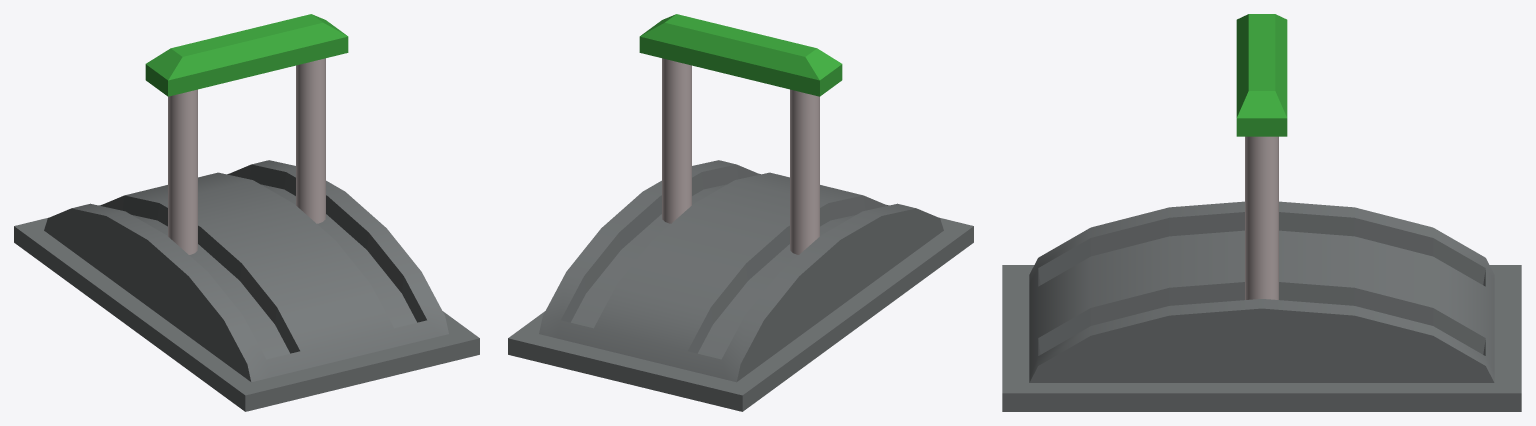
Rendered from Knife_Lever.fbx.
3 views of the same model, side by side, from view 1: azimuth 30°, elevation 25°; view 2: azimuth 150°, elevation 25°; view 3: azimuth 270°, elevation 25° (orthographic). The views are drawn at different scales.
Parts seen in each view (by area): view 1: Casing, Lever; view 2: Casing, Lever; view 3: Casing, Lever.
Part boxes in pixels (left/top/right/bottom): Casing: left=14, top=160, right=479, bottom=411; Lever: left=145, top=14, right=348, bottom=254; Casing: left=508, top=160, right=973, bottom=411; Lever: left=639, top=14, right=842, bottom=254; Casing: left=1002, top=201, right=1521, bottom=411; Lever: left=1236, top=14, right=1287, bottom=299.
Bounding box in the file's own units: 111 × 119 × 189.
